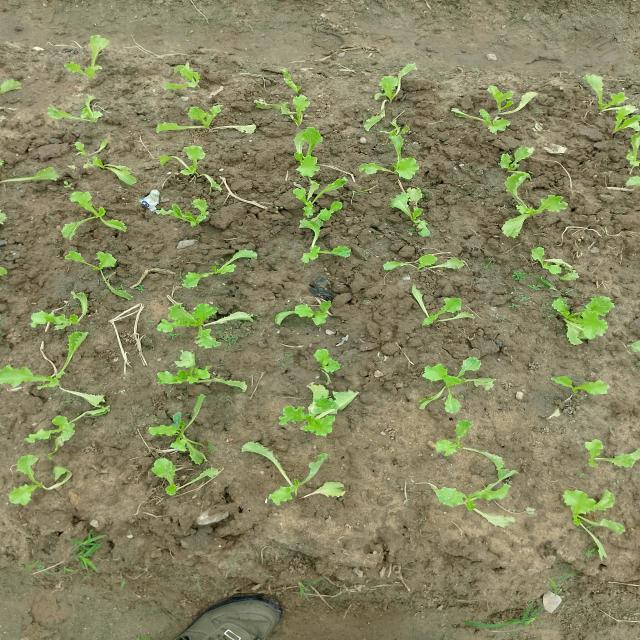Lettuce: (235, 434, 356, 499), (9, 349, 119, 413), (421, 352, 499, 423), (556, 488, 632, 558), (427, 459, 522, 514), (154, 100, 264, 144), (272, 382, 361, 436), (494, 188, 584, 240), (5, 407, 98, 456), (401, 289, 490, 340), (147, 352, 250, 396), (542, 291, 620, 348), (140, 400, 228, 450), (147, 444, 224, 499), (7, 452, 73, 513), (157, 297, 231, 350), (134, 146, 230, 186), (354, 129, 435, 176), (49, 33, 128, 81), (65, 189, 135, 243), (290, 218, 356, 269), (270, 177, 348, 218), (274, 290, 350, 332), (389, 251, 482, 285), (558, 429, 638, 468), (359, 61, 419, 111), (29, 288, 96, 332), (386, 185, 437, 241), (159, 256, 261, 282), (268, 136, 337, 172), (48, 95, 126, 126), (76, 139, 124, 183), (163, 196, 218, 234), (272, 86, 320, 129), (544, 371, 617, 398), (299, 343, 349, 378), (496, 145, 538, 185), (162, 66, 208, 96)
